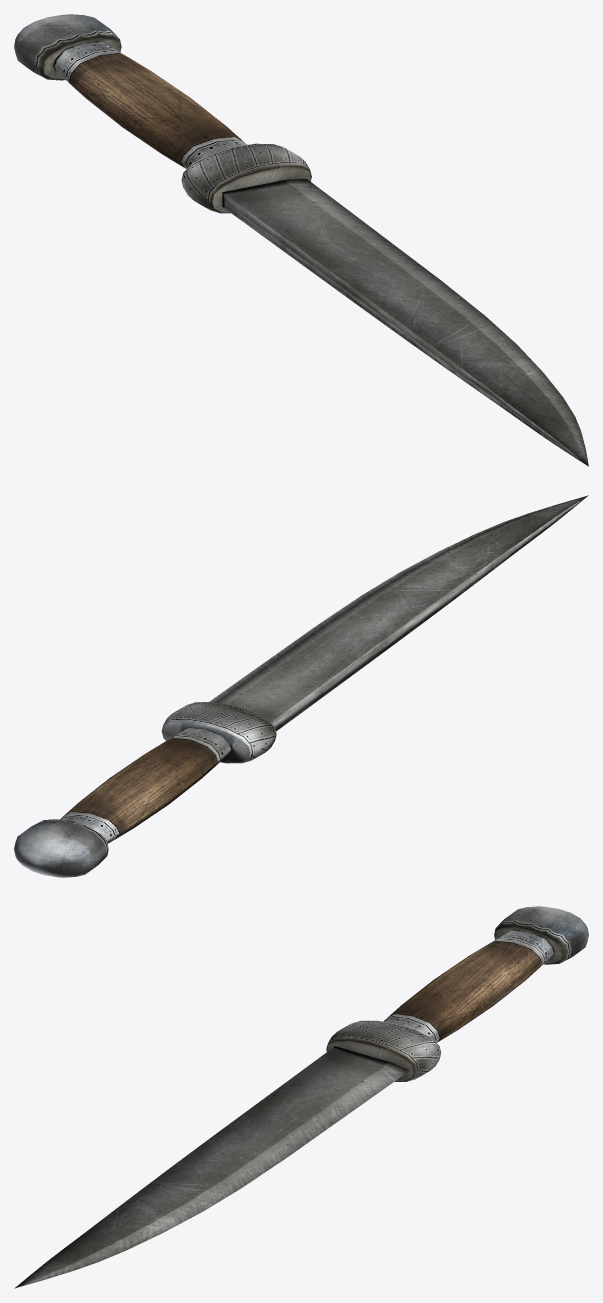
File: Knife_A.FBX
3 renders of one model, top to bottom at view 1: azimuth 30°, elevation 25°; view 2: azimuth 150°, elevation 25°; view 3: azimuth 330°, elevation 25°, orthographic. The views are drawn at different scales.
Parts seen in each view (by area): view 1: Knife_A; view 2: Knife_A; view 3: Knife_A.
Boxes of the visible parts, x1,y1,x2,y2 form: Knife_A: (14,14,588,466); Knife_A: (14,495,588,877); Knife_A: (14,906,588,1288).
Size of the model in its own units: 7.4 by 3 by 67.92.
